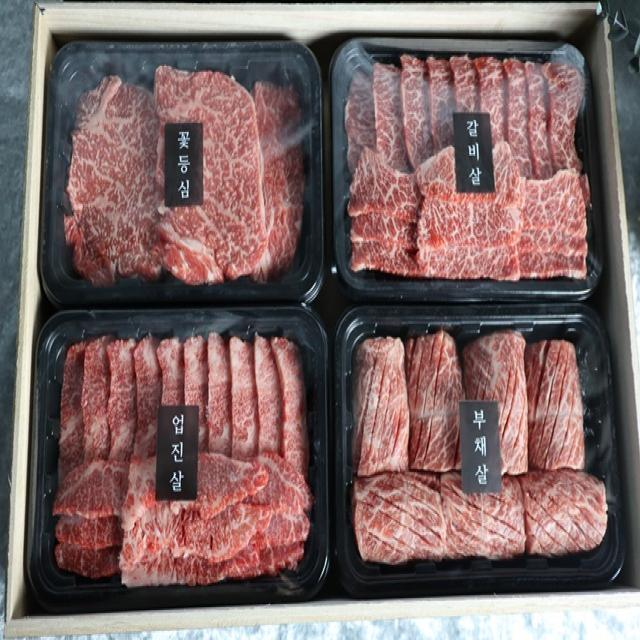beef: (53, 331, 309, 578), (358, 59, 578, 268), (154, 69, 274, 281), (59, 69, 160, 271), (515, 468, 613, 550), (361, 335, 414, 481), (525, 348, 586, 472), (356, 478, 446, 554)
